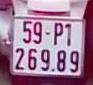1: (65, 20, 74, 47)
2: (15, 46, 26, 72)
5: (20, 20, 33, 46)
6: (27, 46, 37, 73)
8: (56, 47, 67, 73)
9: (39, 47, 51, 74), (69, 47, 80, 74), (32, 21, 43, 45)
P: (51, 20, 64, 46)
